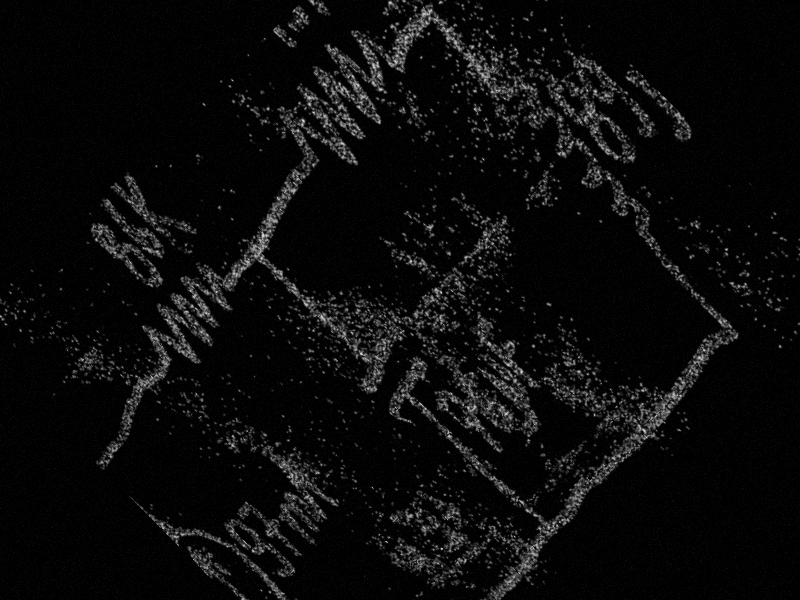4: (257, 21, 307, 70)
6: (437, 353, 525, 442), (92, 186, 175, 269)
7: (422, 374, 515, 467), (228, 486, 314, 572)
8: (537, 64, 652, 179), (81, 208, 176, 303)
9: (561, 44, 670, 153), (213, 502, 304, 593), (280, 2, 326, 49)
A: (254, 437, 344, 527)
F: (462, 307, 550, 395)
k: (108, 164, 212, 267), (303, 0, 354, 26)
m: (267, 484, 333, 550)
u: (466, 346, 557, 437), (614, 61, 700, 148)
